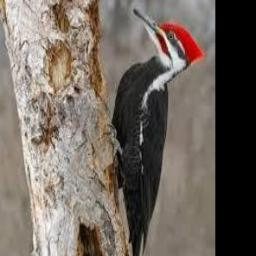Woodpecker: (111, 7, 205, 256)
